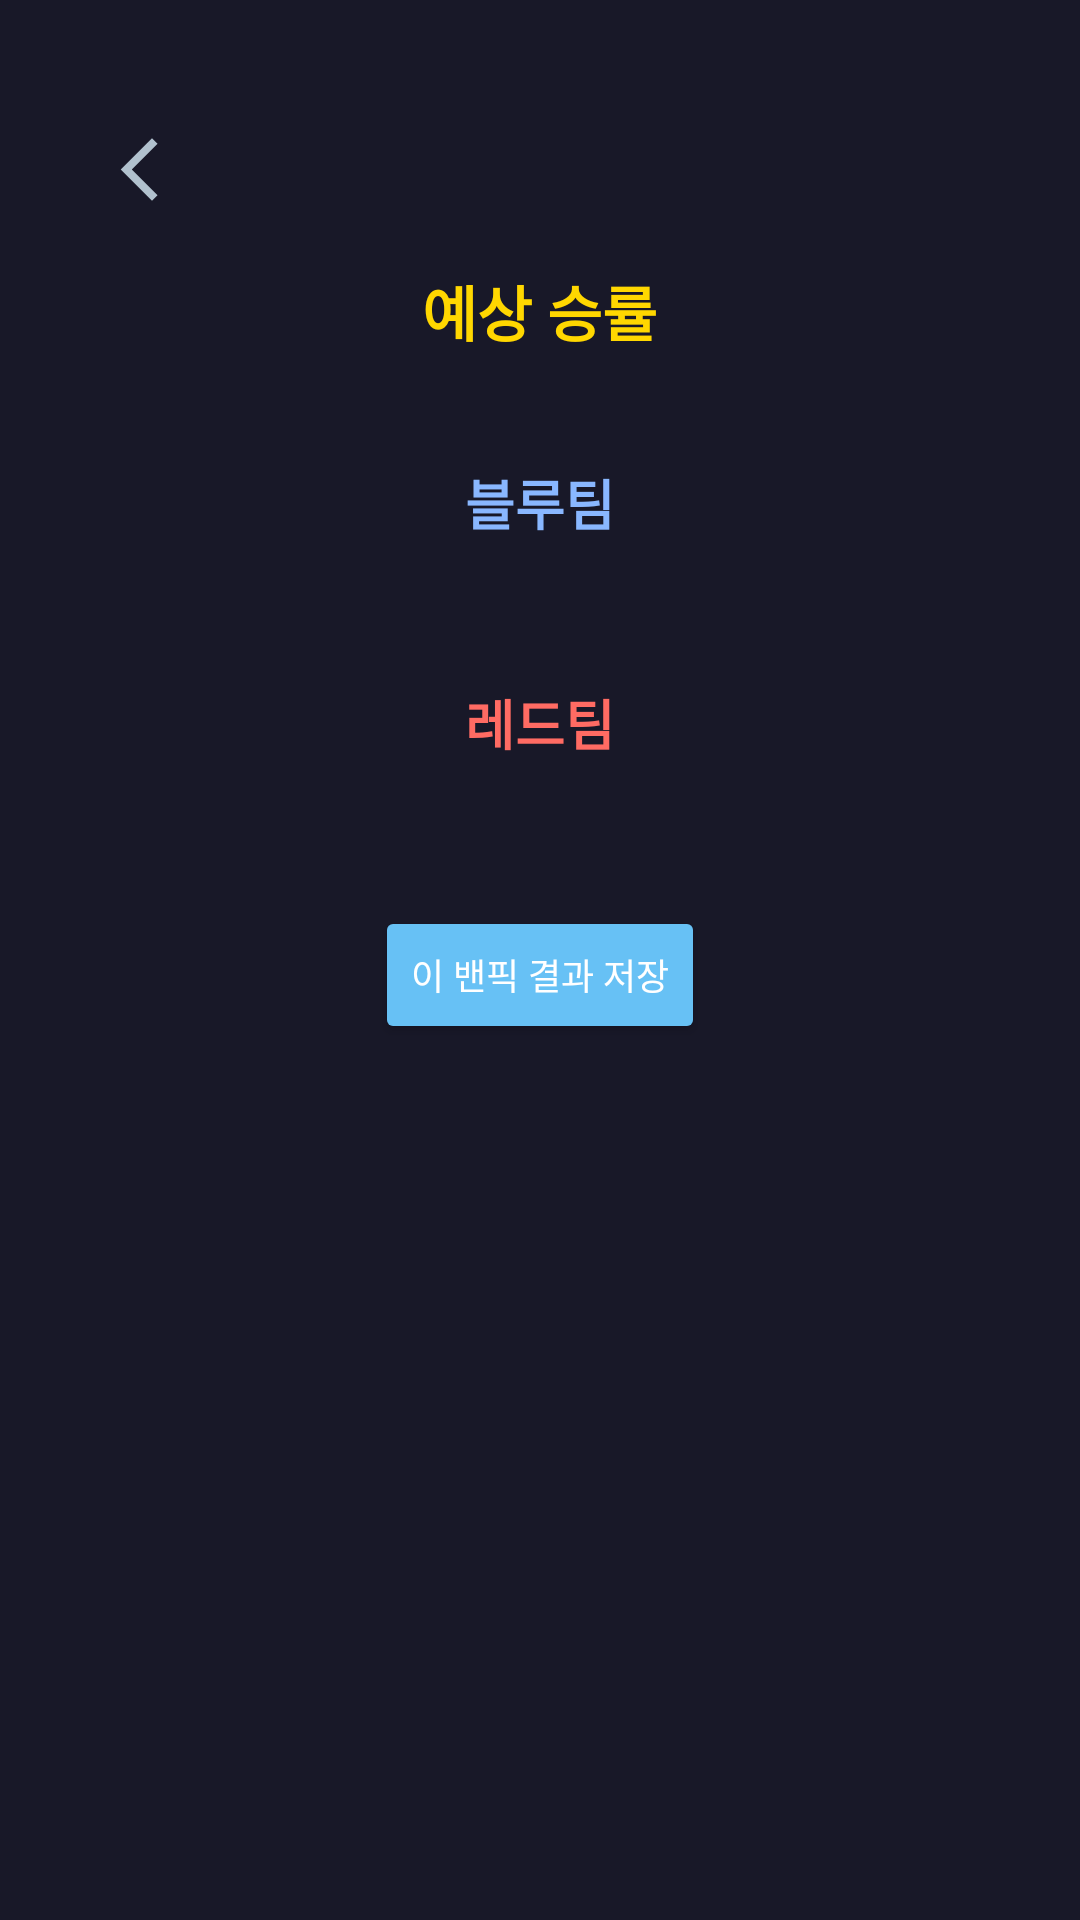

Where icons sit on this 1080 x 1920 app screen, as (x1, y1, x2, y2):
pageback: (121, 138, 158, 201)
